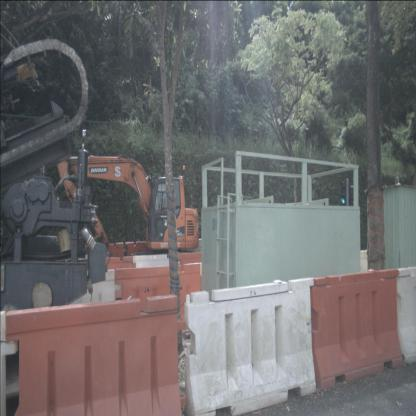movable_object-barrier: (0, 294, 182, 416), (182, 276, 318, 416), (310, 267, 405, 393), (32, 267, 123, 344), (116, 263, 204, 336), (395, 264, 415, 371), (132, 254, 181, 291), (174, 250, 213, 294), (95, 256, 137, 296), (125, 240, 149, 267), (106, 242, 127, 267)
